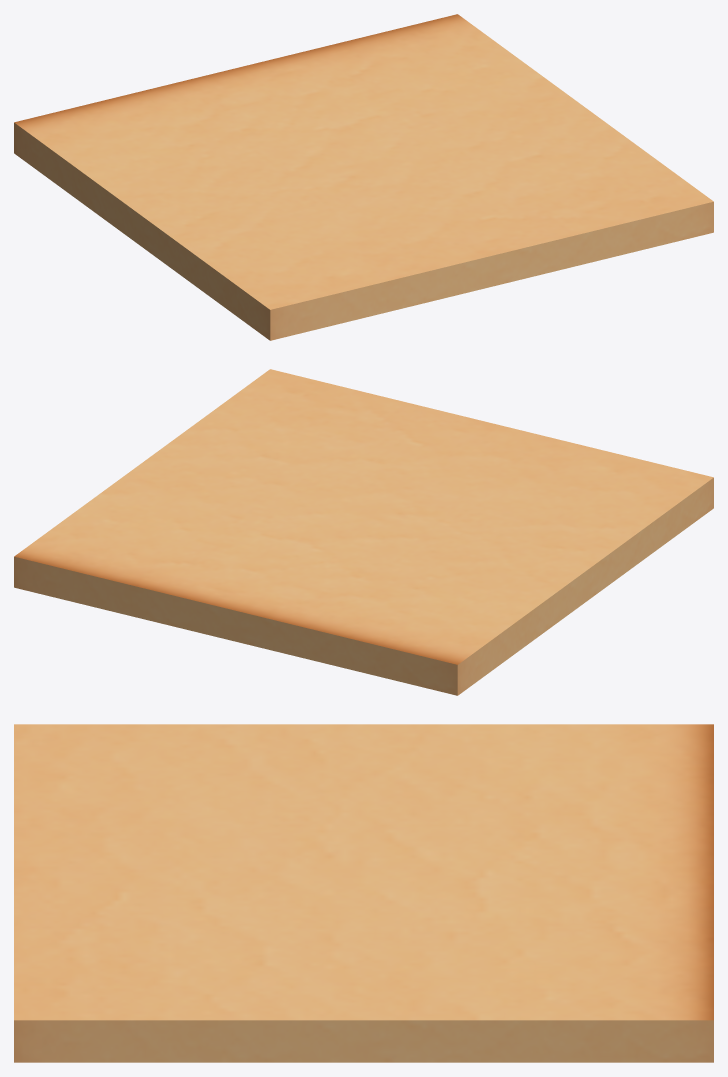
The model's file is Light_CeilingPanel.fbx.
The picture shows the model from 3 angles, top to bottom: view 1: azimuth 30°, elevation 25°; view 2: azimuth 150°, elevation 25°; view 3: azimuth 270°, elevation 25°; orthographic projection. The views are drawn at different scales.
Parts seen in each view (by area): view 1: Light_CeilingPanel; view 2: Light_CeilingPanel; view 3: Light_CeilingPanel.
Boxes of the visible parts, box(x1,y1,x2,y2) form: Light_CeilingPanel: box(14, 14, 713, 340); Light_CeilingPanel: box(14, 369, 713, 695); Light_CeilingPanel: box(14, 724, 713, 1062).
Bounding box in the file's own units: 0.6 × 0.042 × 0.6.
